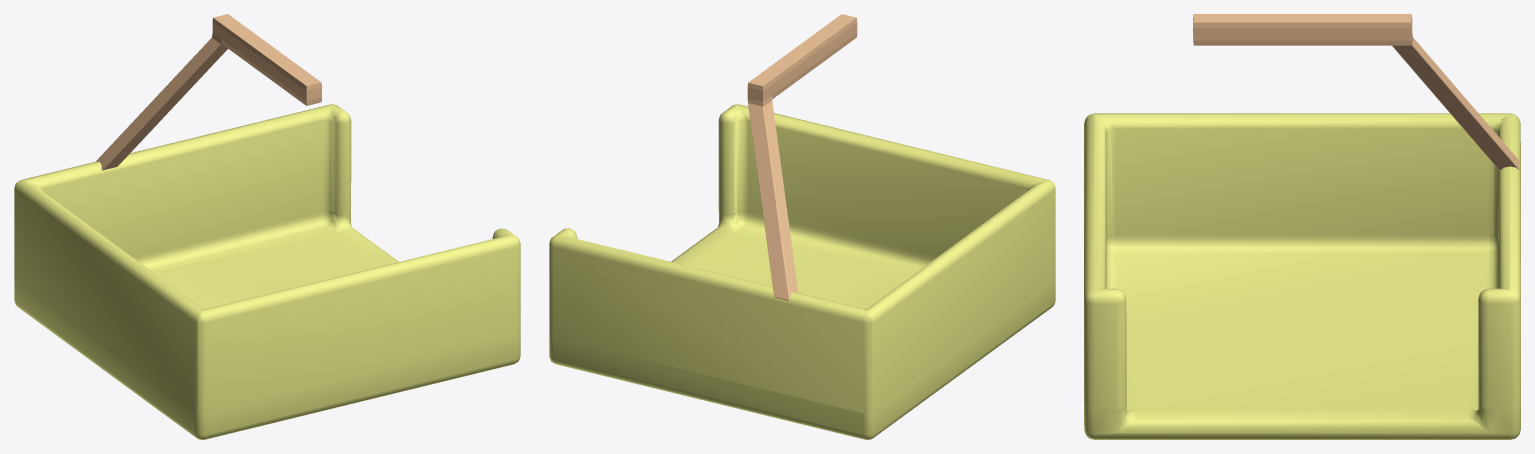
The model's file is korzina2-2.fbx.
3 renders of one model, left to right at view 1: azimuth 30°, elevation 25°; view 2: azimuth 150°, elevation 25°; view 3: azimuth 270°, elevation 25°, orthographic. The views are drawn at different scales.
Parts seen in each view (by area): view 1: cube_001, cube_001.003, cube_001.001, cube_001.002, cube, cube.001; view 2: cube_001.003, cube_001, cube_001.001, cube_001.002, cube.001, cube; view 3: cube_001.001, cube_001.002, cube_001, cube_001.003, cube, cube.001.
Boxes of the visible parts, x1=… form: cube_001: x1=197, y1=228, x2=520, y2=413; cube_001.003: x1=18, y1=104, x2=351, y2=257; cube_001.001: x1=14, y1=211, x2=520, y2=439; cube_001.002: x1=14, y1=180, x2=204, y2=413; cube: x1=212, y1=14, x2=321, y2=105; cube.001: x1=96, y1=38, x2=227, y2=170; cube_001.003: x1=549, y1=228, x2=872, y2=413; cube_001: x1=718, y1=104, x2=1053, y2=257; cube_001.001: x1=549, y1=211, x2=1055, y2=439; cube_001.002: x1=865, y1=180, x2=1055, y2=413; cube.001: x1=748, y1=100, x2=798, y2=300; cube: x1=747, y1=14, x2=857, y2=106; cube_001.001: x1=1084, y1=234, x2=1520, y2=439; cube_001.002: x1=1090, y1=113, x2=1514, y2=234; cube_001: x1=1084, y1=114, x2=1126, y2=409; cube_001.003: x1=1478, y1=114, x2=1520, y2=409; cube: x1=1193, y1=14, x2=1412, y2=45; cube.001: x1=1392, y1=37, x2=1519, y2=170.
Bounding box in the file's own units: 400 × 336 × 400.
